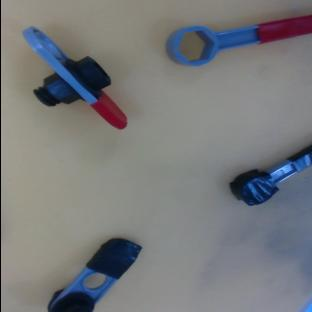part_1_bad: (41, 227, 148, 312)
part_1_good: (0, 23, 145, 144)
